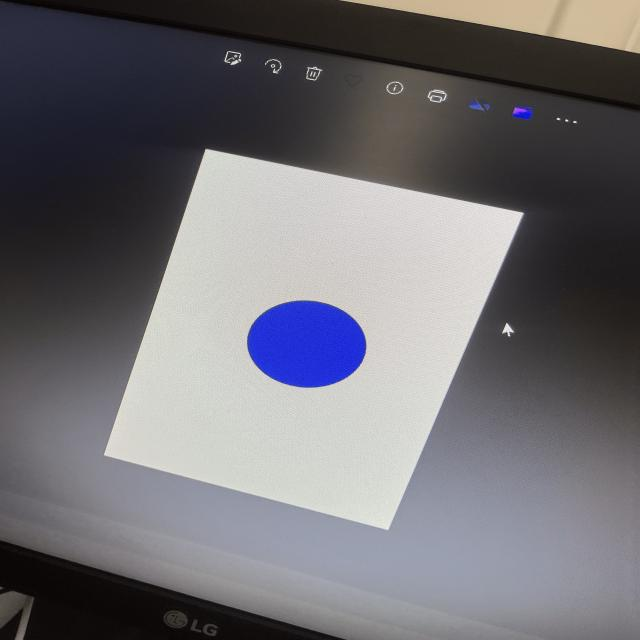CirculoAzul: (245, 298, 368, 388)
